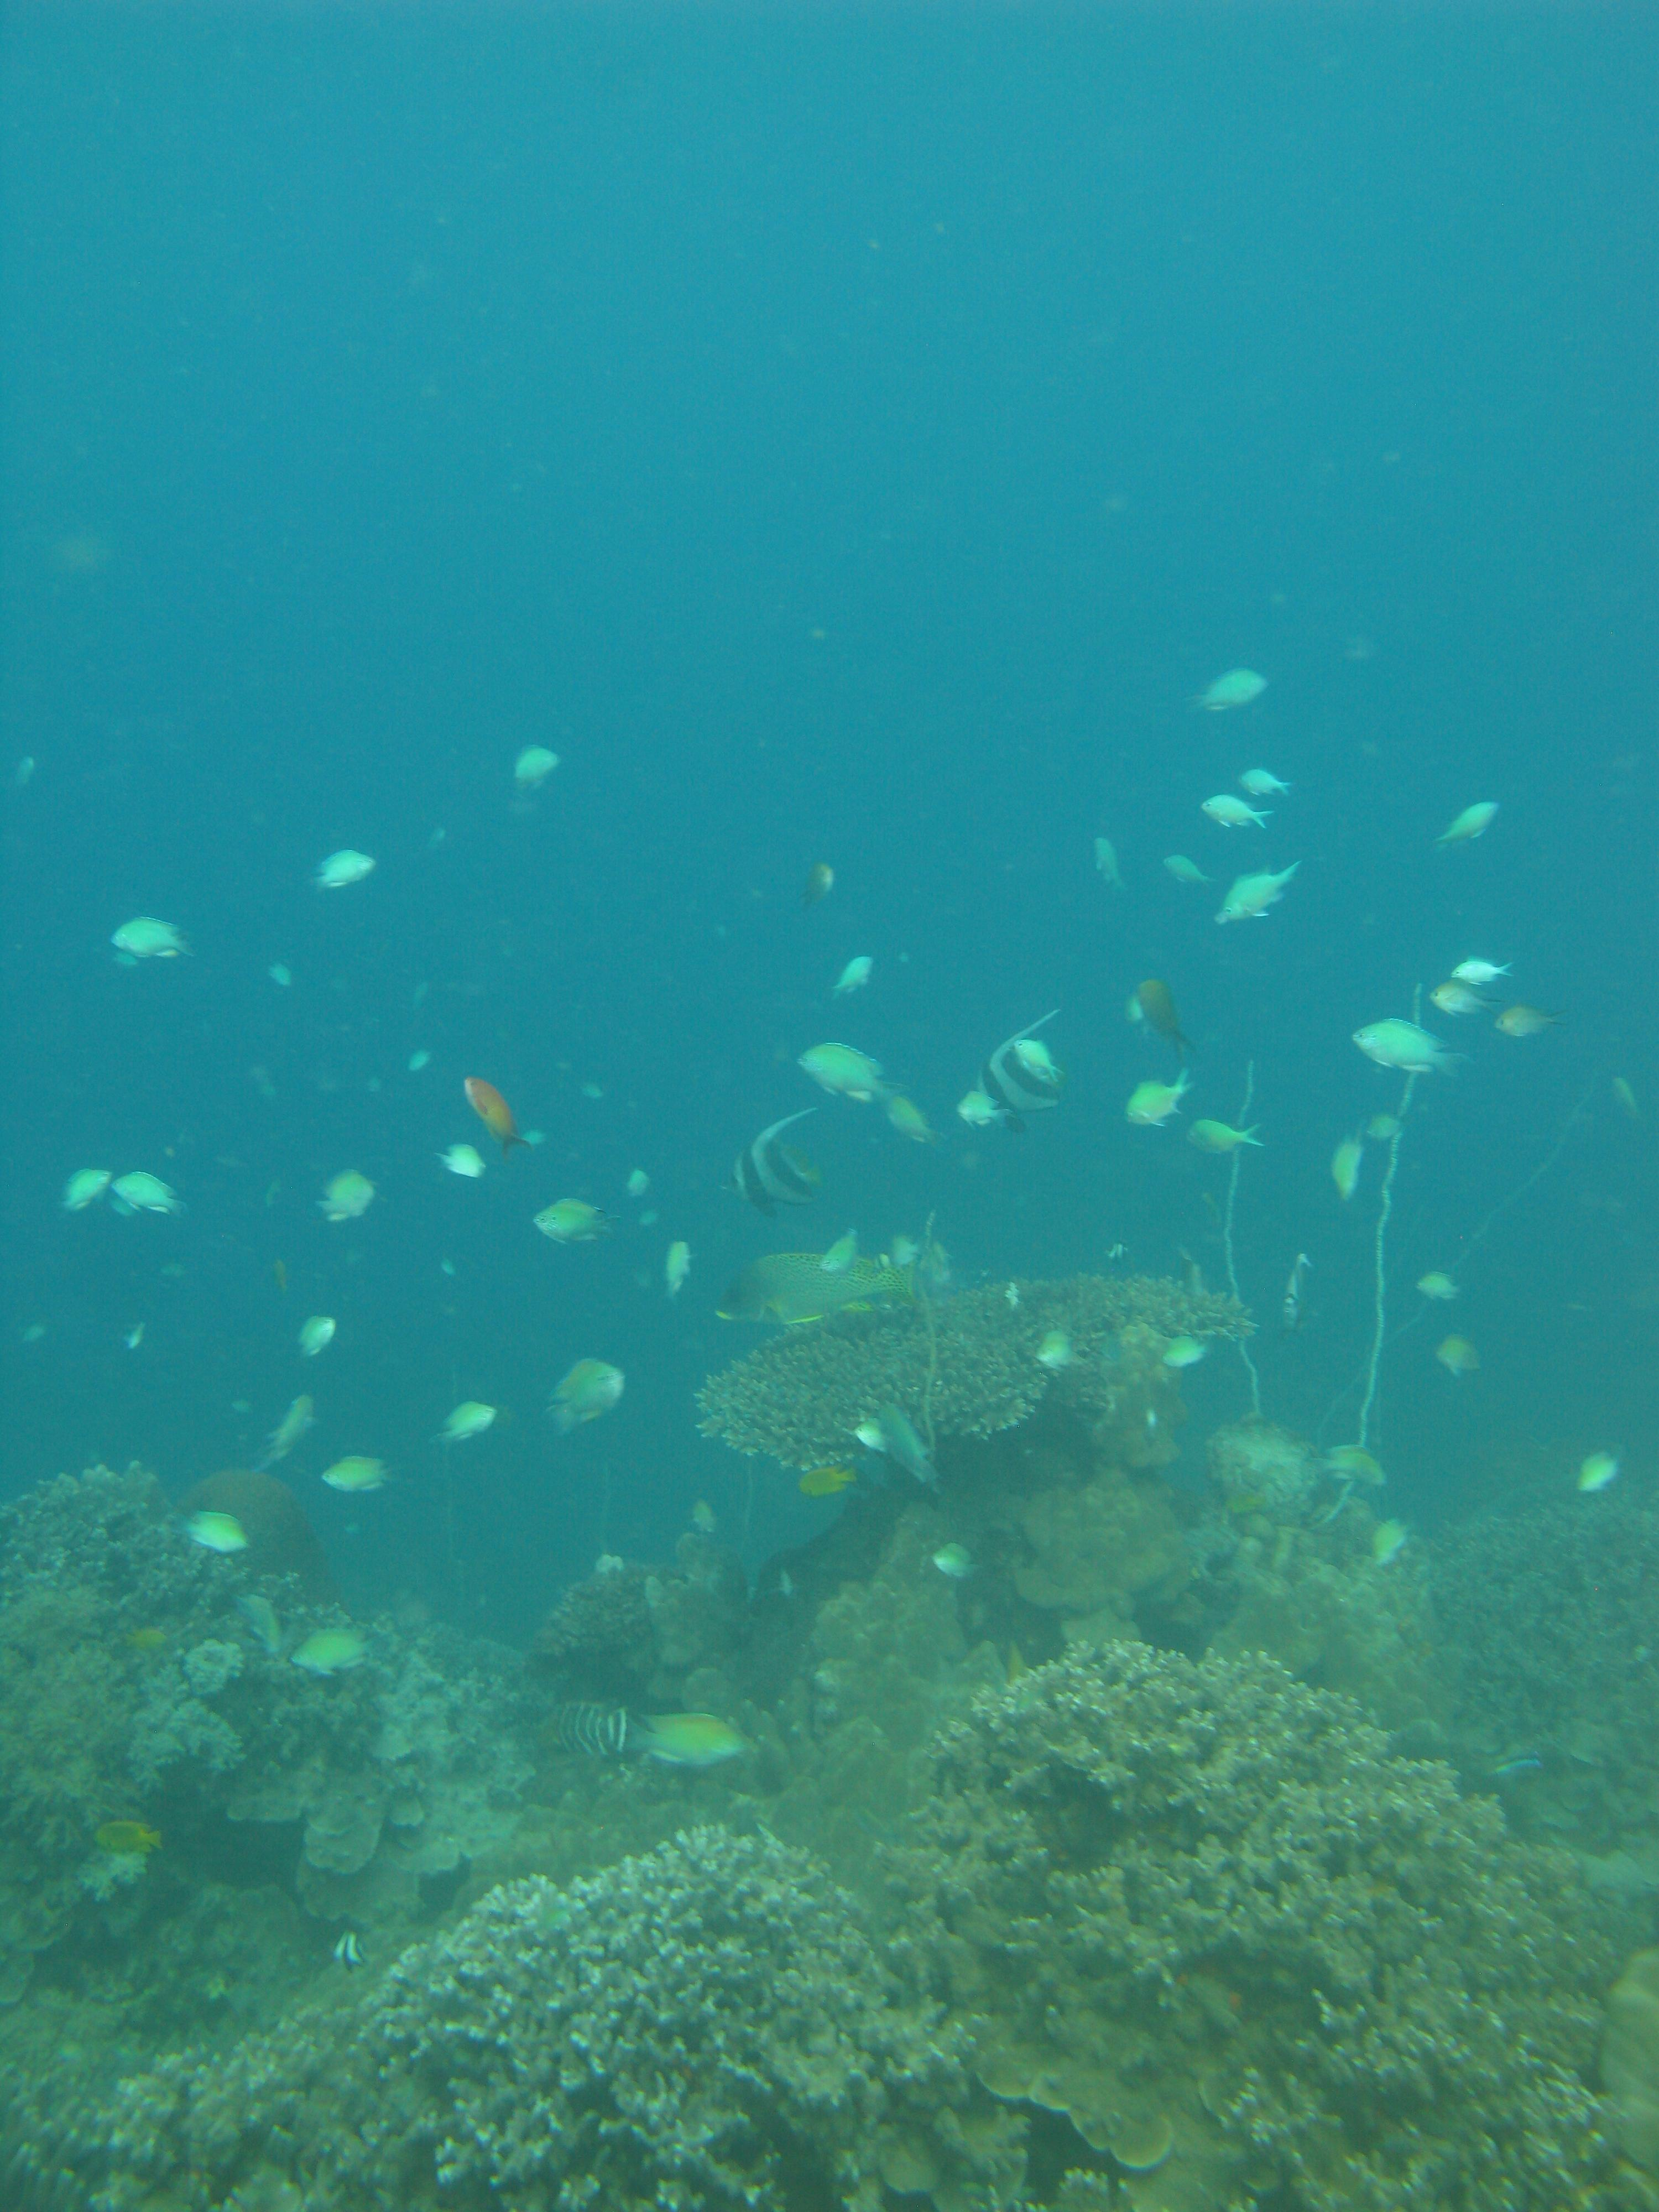Fish: (718, 1251, 918, 1331)
